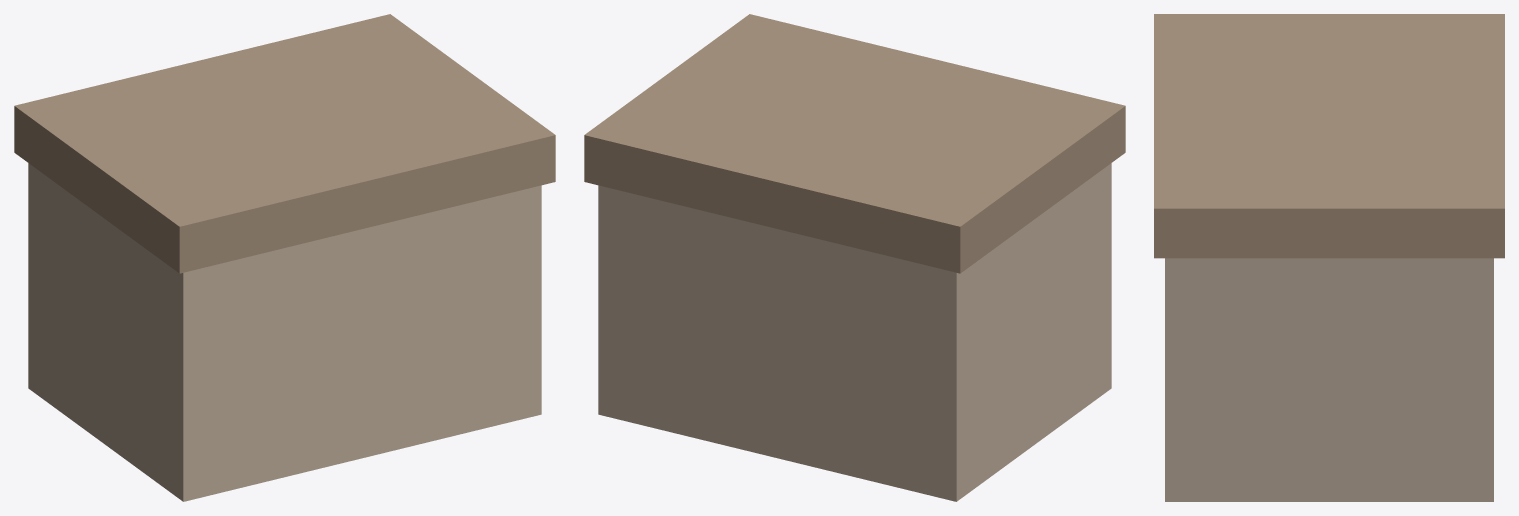
The model's file is bed_sub_caixa.glb.
3 views of the same model, side by side, from view 1: azimuth 30°, elevation 25°; view 2: azimuth 150°, elevation 25°; view 3: azimuth 270°, elevation 25° (orthographic). The views are drawn at different scales.
Visible parts, largest first — view 1: BED_Sub_Caixa_v01; view 2: BED_Sub_Caixa_v01; view 3: BED_Sub_Caixa_v01.
Part boxes in pixels (x1,y1,x2,y2): BED_Sub_Caixa_v01: (14, 14, 555, 501); BED_Sub_Caixa_v01: (584, 14, 1125, 501); BED_Sub_Caixa_v01: (1154, 14, 1504, 501).
Bounding box in the file's own units: 0.42 × 0.3 × 0.32.
